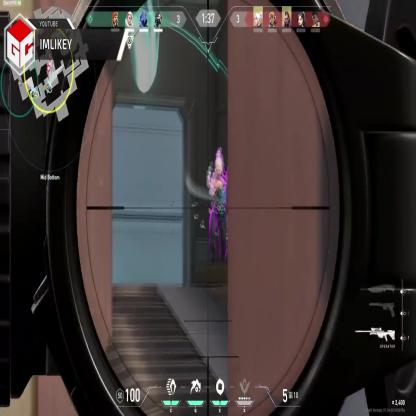enemy: (207, 153, 228, 260)
enemy_head: (214, 154, 224, 176)
